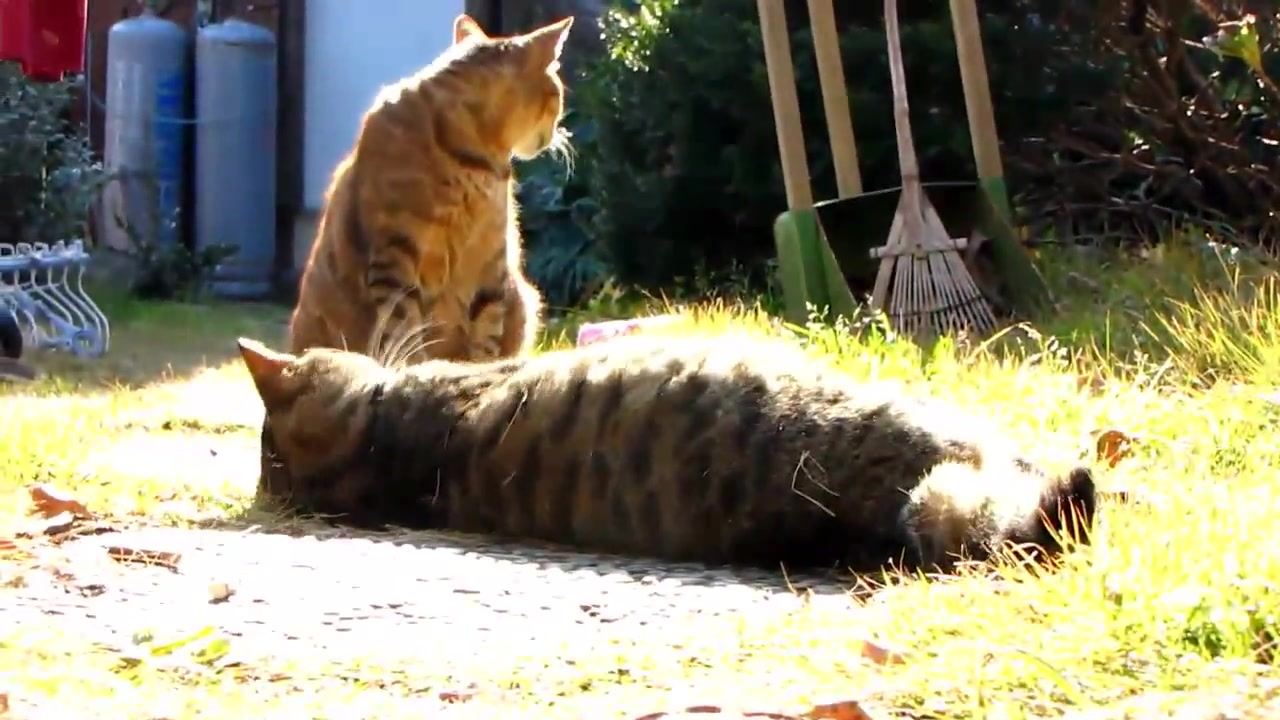cat: (236, 328, 1099, 583), (287, 16, 579, 362)
